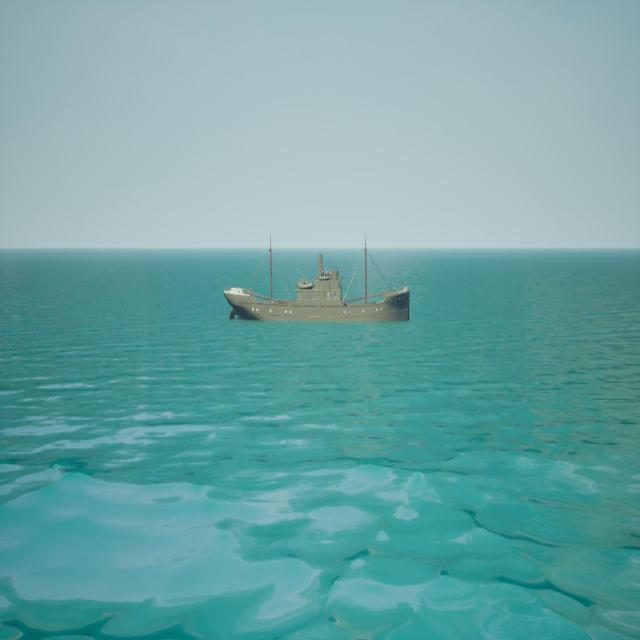fishing ship: (225, 236, 413, 324)
